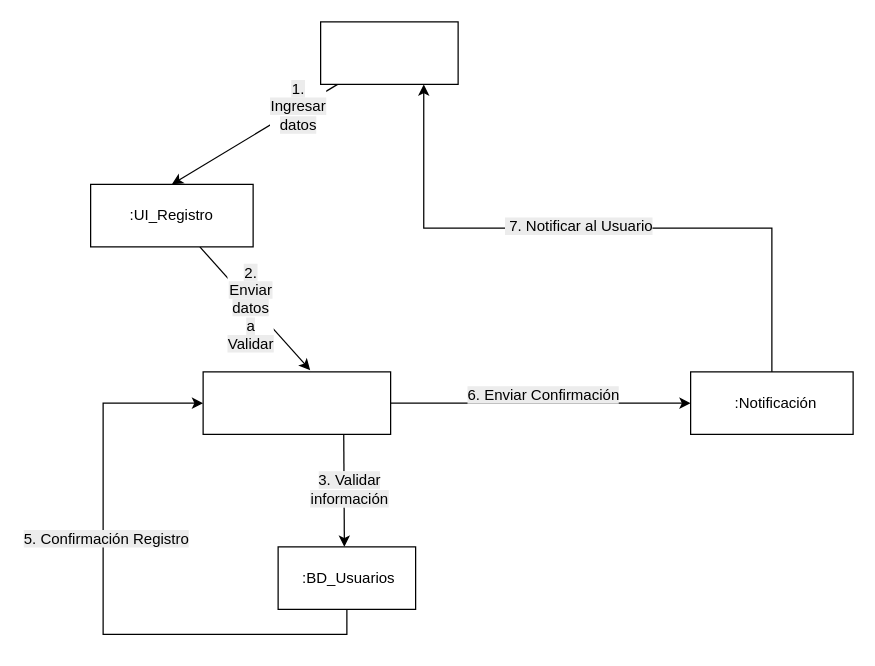
Some shapes in this 875 by 666 pixel diagram are drawn without their labels. Each missing label, with the centre of its shape:
:SistemaRegistro: point (296, 402)
:Usuario: point (388, 52)
